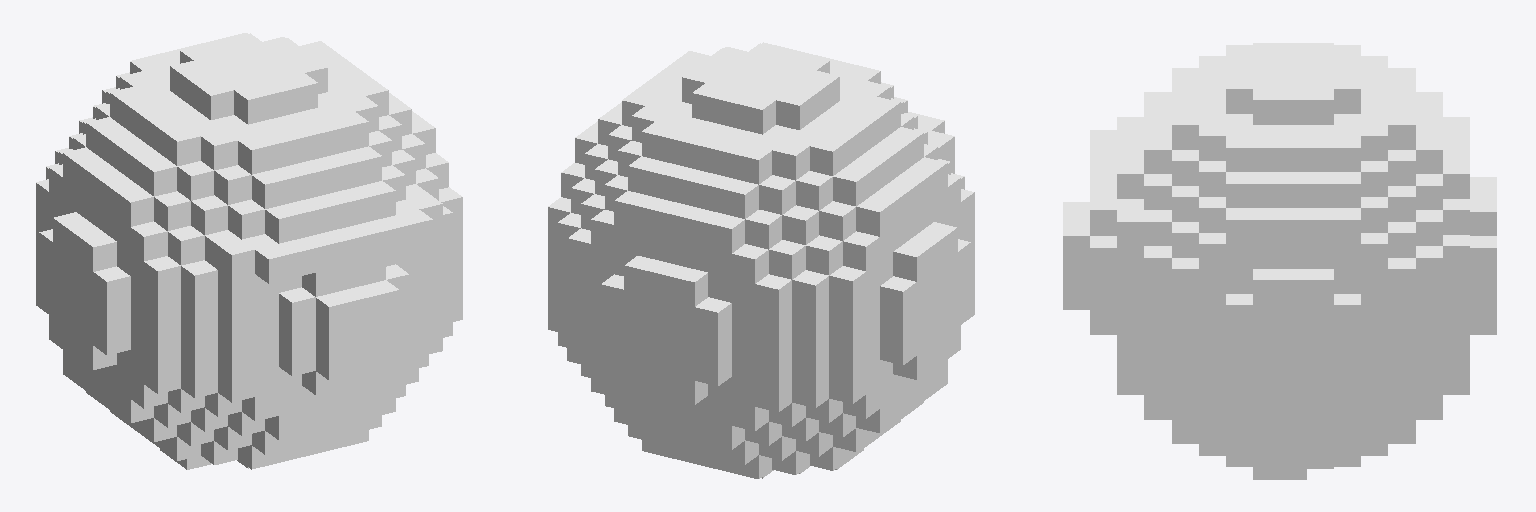
The model's file is DuoCherrycara2.obj.
The picture shows the model from 3 angles: view 1: azimuth 30°, elevation 25°; view 2: azimuth 150°, elevation 25°; view 3: azimuth 270°, elevation 25°; orthographic projection.
Parts seen in each view (by area): view 1: object 1; view 2: object 1; view 3: object 1.
Part boxes in pixels (bbox=[...]): object 1: bbox=[36, 33, 462, 469]; object 1: bbox=[548, 42, 974, 478]; object 1: bbox=[1063, 43, 1496, 479].
Bounding box in the file's own units: 1.5 × 1.5 × 1.6.